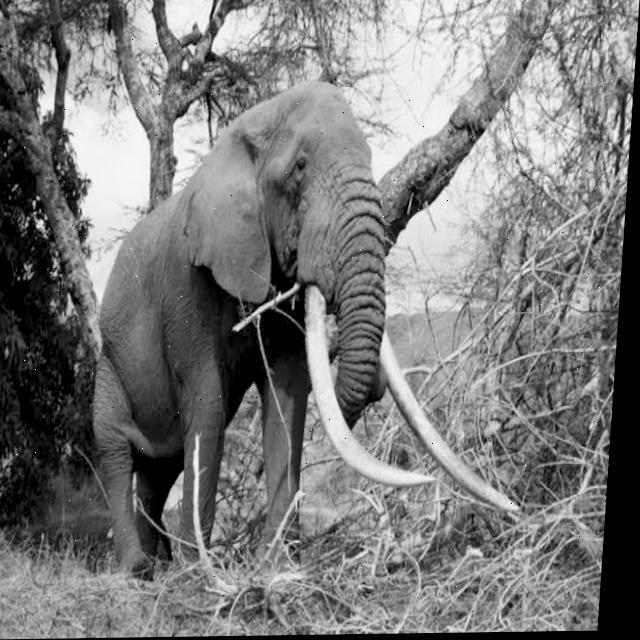Elephant: (79, 74, 550, 581)
